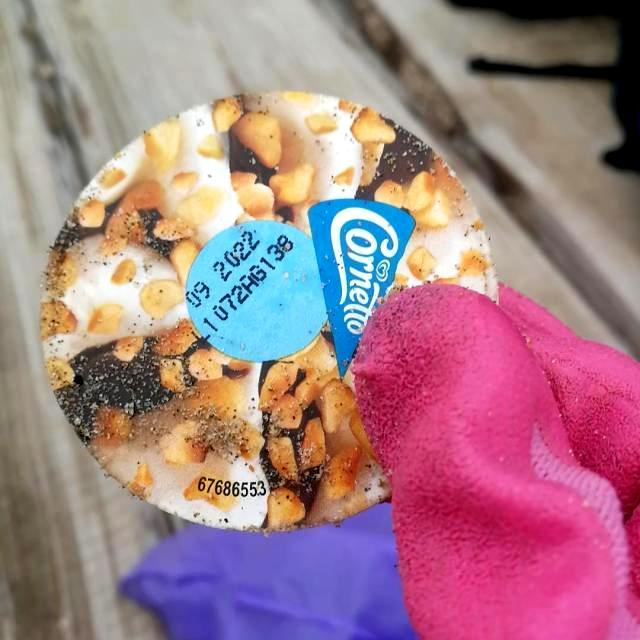Paper: (32, 83, 504, 539)
